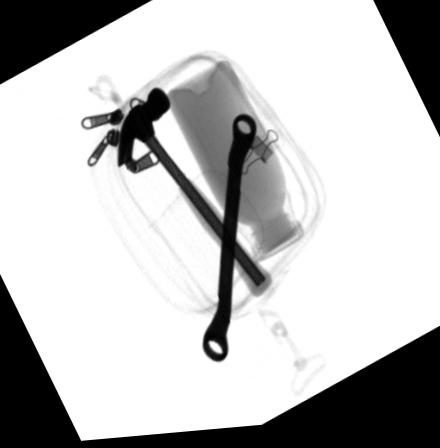Hammer: (116, 88, 273, 304)
Wrench: (201, 118, 258, 369)
